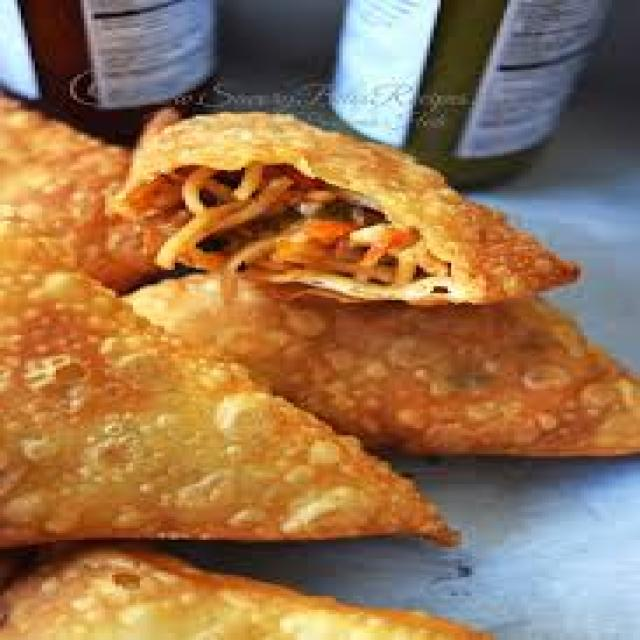SAMOSA: (0, 237, 463, 551), (124, 272, 637, 464), (0, 542, 510, 638)
